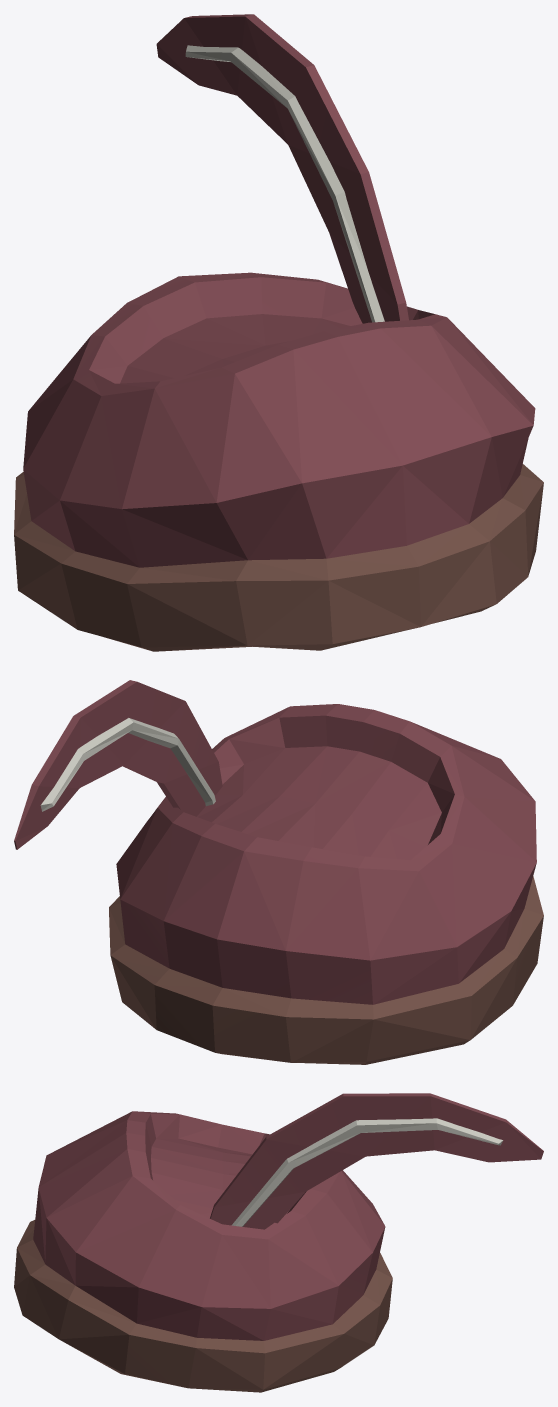
The model's file is helmMinstrelM.fbx.
The picture shows the model from 3 angles, top to bottom: view 1: azimuth 30°, elevation 25°; view 2: azimuth 150°, elevation 25°; view 3: azimuth 270°, elevation 25°; orthographic projection. The views are drawn at different scales.
Visible parts, largest first — view 1: helmMinstrelM; view 2: helmMinstrelM; view 3: helmMinstrelM.
Boxes of the visible parts, left/top/right/bottom form: helmMinstrelM: left=14, top=14, right=543, bottom=651; helmMinstrelM: left=14, top=680, right=543, bottom=1064; helmMinstrelM: left=14, top=1093, right=543, bottom=1392.
Bounding box in the file's own units: 0.5221 × 0.4521 × 0.7885.
